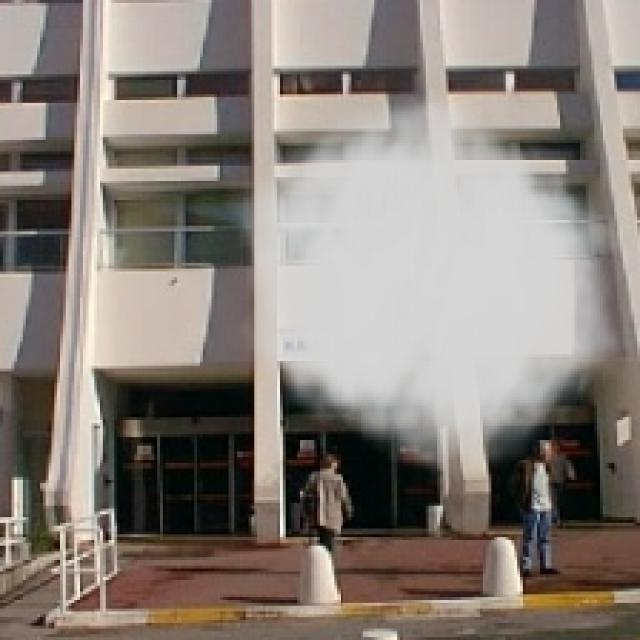smoke: (223, 80, 623, 486)
